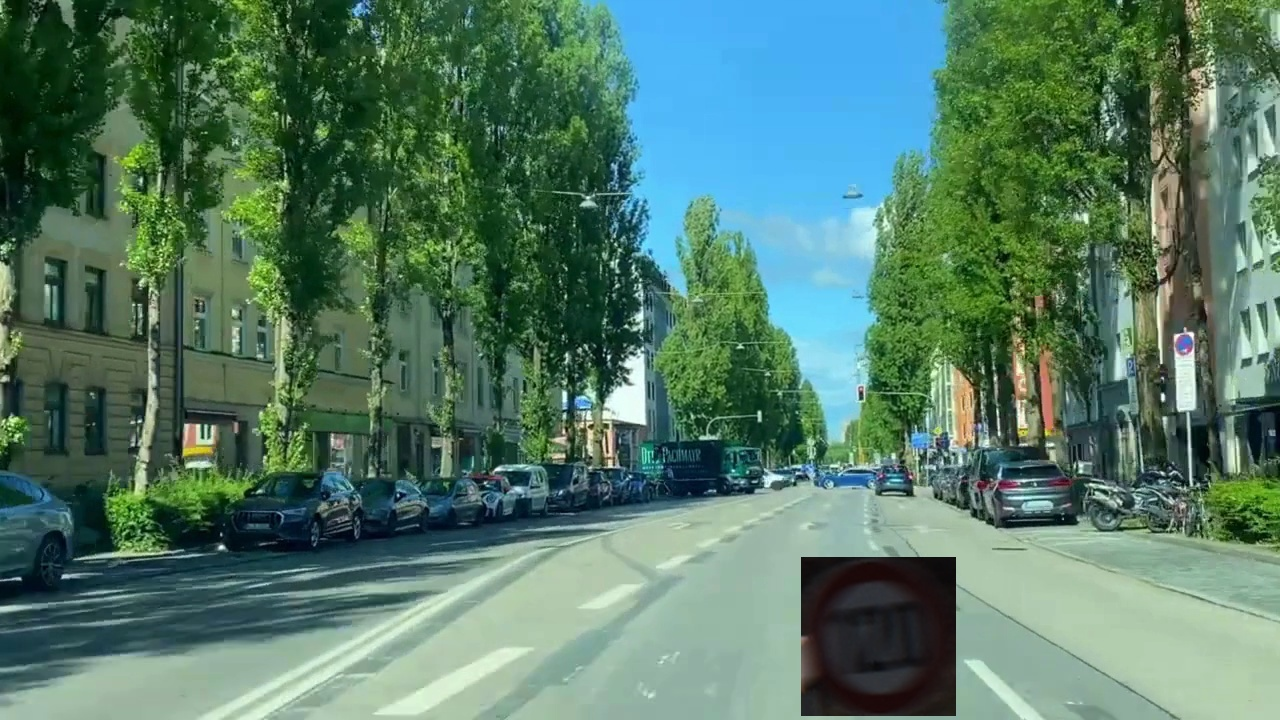Speed 120: (801, 557, 956, 716)
